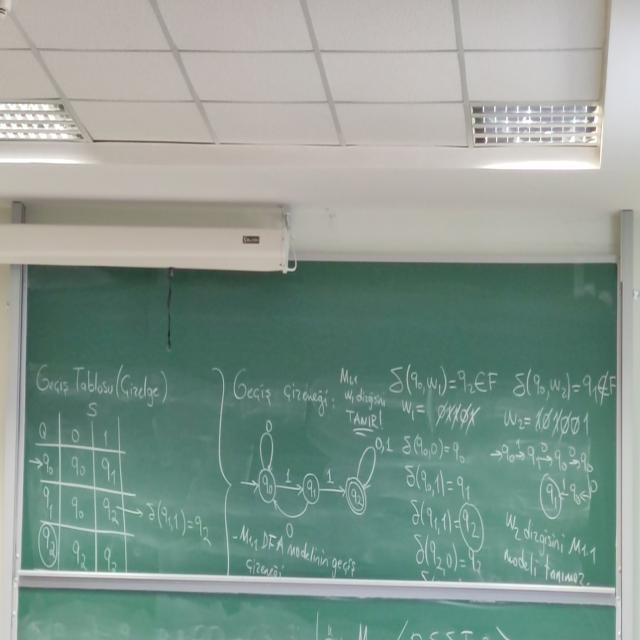image: (238, 414, 398, 527), (30, 404, 134, 577)
math: (400, 428, 486, 581), (490, 406, 602, 494), (383, 358, 498, 404), (141, 489, 219, 552), (508, 364, 617, 404)
text: (491, 502, 602, 582), (232, 518, 358, 572), (225, 360, 332, 416)
